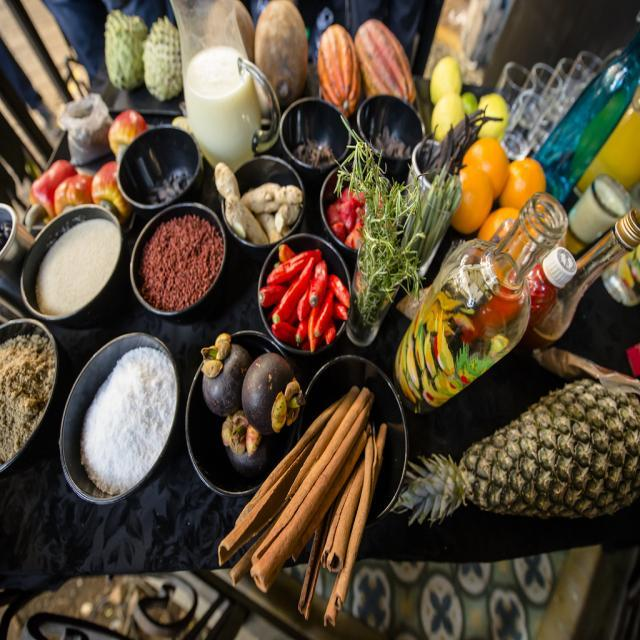Pineapple: (392, 373, 640, 525)
